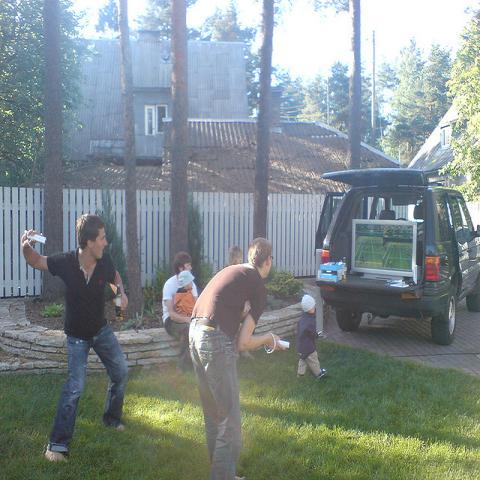car: (317, 170, 479, 345)
